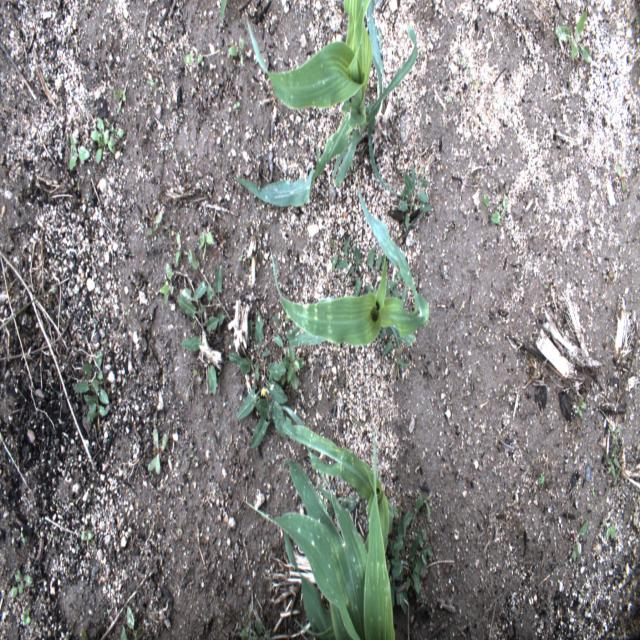crop: (234, 0, 420, 207), (244, 440, 396, 638), (270, 186, 429, 349), (275, 402, 390, 572)
weed: (329, 236, 411, 377), (237, 339, 309, 452), (177, 278, 223, 399), (388, 493, 432, 617), (188, 226, 232, 325), (226, 312, 281, 380), (72, 346, 110, 424), (397, 165, 432, 232), (552, 9, 592, 62), (90, 116, 124, 168), (69, 133, 93, 174), (147, 430, 167, 475), (570, 518, 588, 564), (158, 261, 174, 308), (119, 605, 140, 638), (9, 571, 33, 598), (490, 192, 508, 223), (227, 38, 244, 70), (182, 50, 204, 66), (173, 232, 182, 264), (19, 606, 32, 628)
